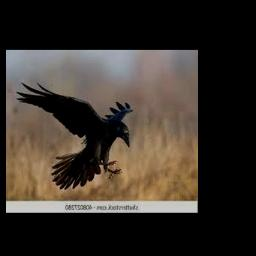Crow: (17, 81, 133, 190)
